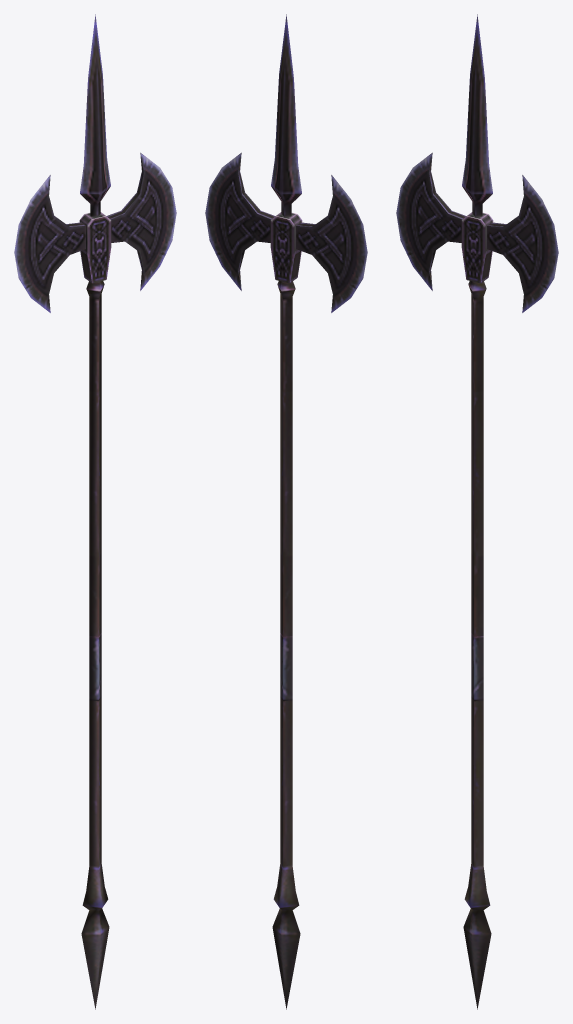
File: Polearm12.FBX
3 views of the same model, side by side, from view 1: azimuth 30°, elevation 25°; view 2: azimuth 150°, elevation 25°; view 3: azimuth 330°, elevation 25° (orthographic).
Parts seen in each view (by area): view 1: Polearm12; view 2: Polearm12; view 3: Polearm12.
Part boxes in pixels (bbox=[...]): Polearm12: bbox=[14, 14, 176, 1009]; Polearm12: bbox=[205, 14, 367, 1009]; Polearm12: bbox=[396, 14, 558, 1009].
Size of the model in its own units: 46.06 by 270 by 7.07.
